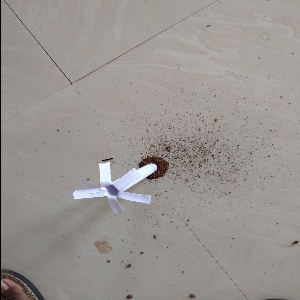weed: (74, 157, 166, 212)
